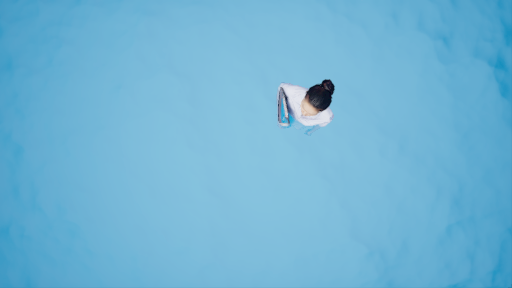person: (266, 80, 341, 133)
